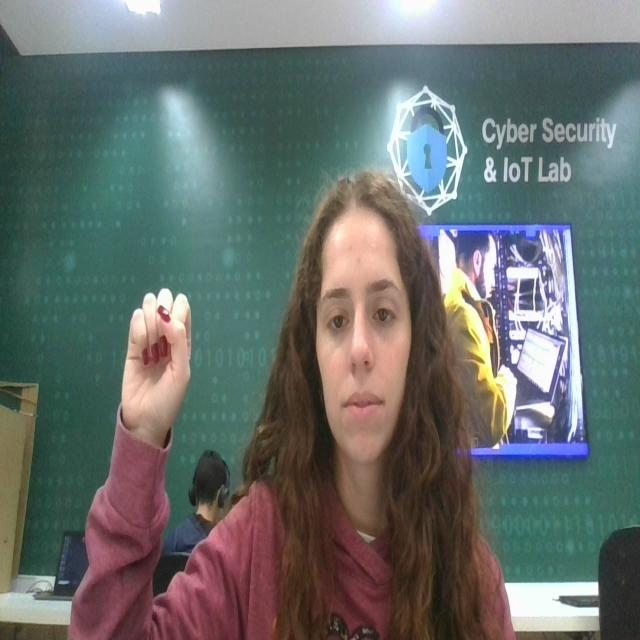S: (119, 282, 200, 456)
